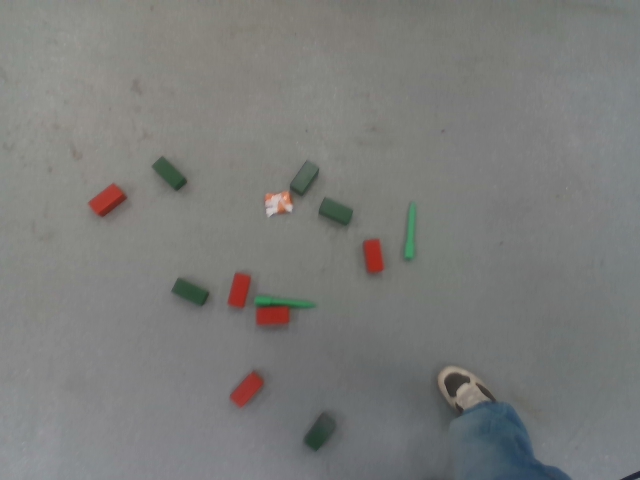Probe: (401, 199, 420, 261), (252, 293, 319, 310)
